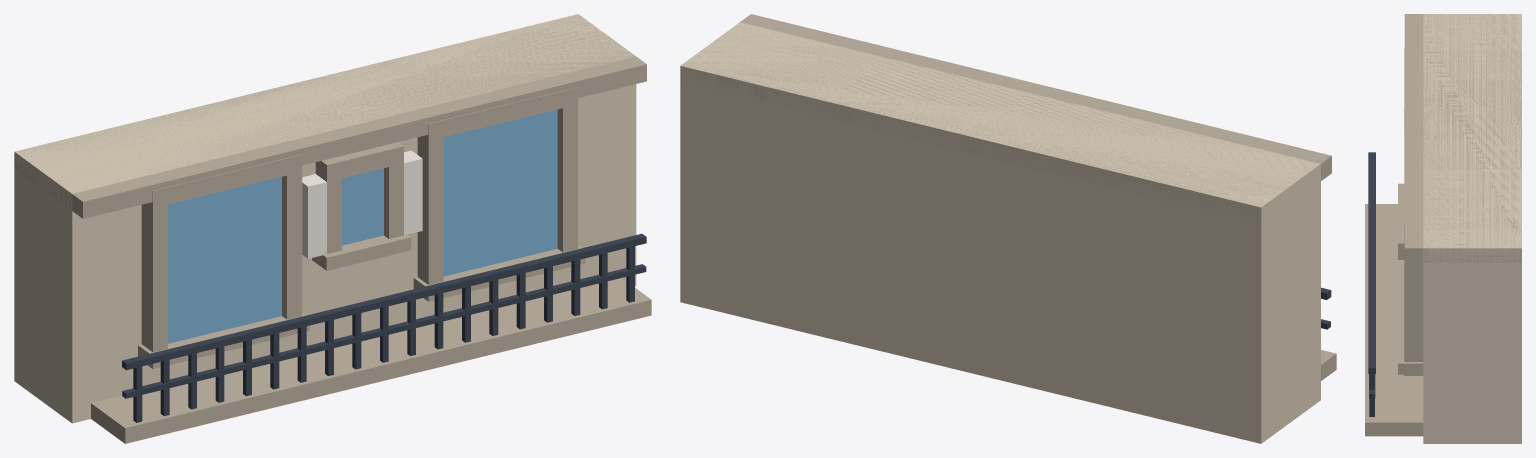
Rendered from cittaVecchiaPianoB.glb.
The picture shows the model from 3 angles, left to right: view 1: azimuth 30°, elevation 25°; view 2: azimuth 150°, elevation 25°; view 3: azimuth 270°, elevation 25°; orthographic projection. The views are drawn at different scales.
Visible parts, largest first — view 1: cittaVecchiaPianoB_plaster, cittaVecchiaPianoB_stone, cittaVecchiaPianoB_glass, cittaVecchiaPianoB_steelDark, cittaVecchiaPianoB_white; view 2: cittaVecchiaPianoB_plaster, cittaVecchiaPianoB_stone; view 3: cittaVecchiaPianoB_plaster, cittaVecchiaPianoB_stone, cittaVecchiaPianoB_steelDark.
Boxes of the visible parts, x1,y1,x2,y2 form: cittaVecchiaPianoB_plaster: [14, 14, 636, 423]; cittaVecchiaPianoB_stone: [14, 14, 651, 443]; cittaVecchiaPianoB_glass: [168, 109, 557, 343]; cittaVecchiaPianoB_steelDark: [122, 233, 646, 422]; cittaVecchiaPianoB_white: [302, 150, 422, 258]; cittaVecchiaPianoB_plaster: [680, 22, 1320, 443]; cittaVecchiaPianoB_stone: [680, 14, 1336, 380]; cittaVecchiaPianoB_plaster: [1423, 14, 1521, 443]; cittaVecchiaPianoB_stone: [1365, 14, 1521, 436]; cittaVecchiaPianoB_steelDark: [1368, 152, 1375, 416].
Bounding box in the file's own units: 9 × 3.5 × 2.54.
